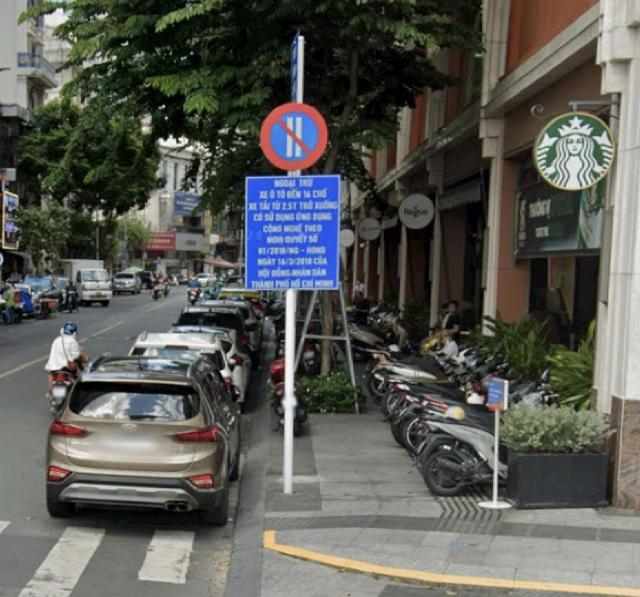131c-cam-do-xe-ngay-chan: (258, 100, 329, 172)
